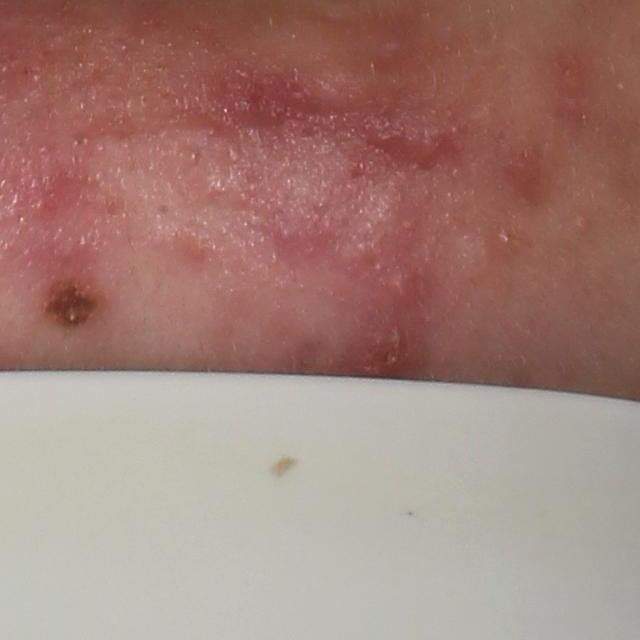hypertrophic_scar: (240, 136, 426, 269), (226, 14, 406, 106)
nevus: (51, 289, 96, 328)
papule: (352, 311, 422, 379), (379, 267, 429, 319), (411, 124, 448, 168)
